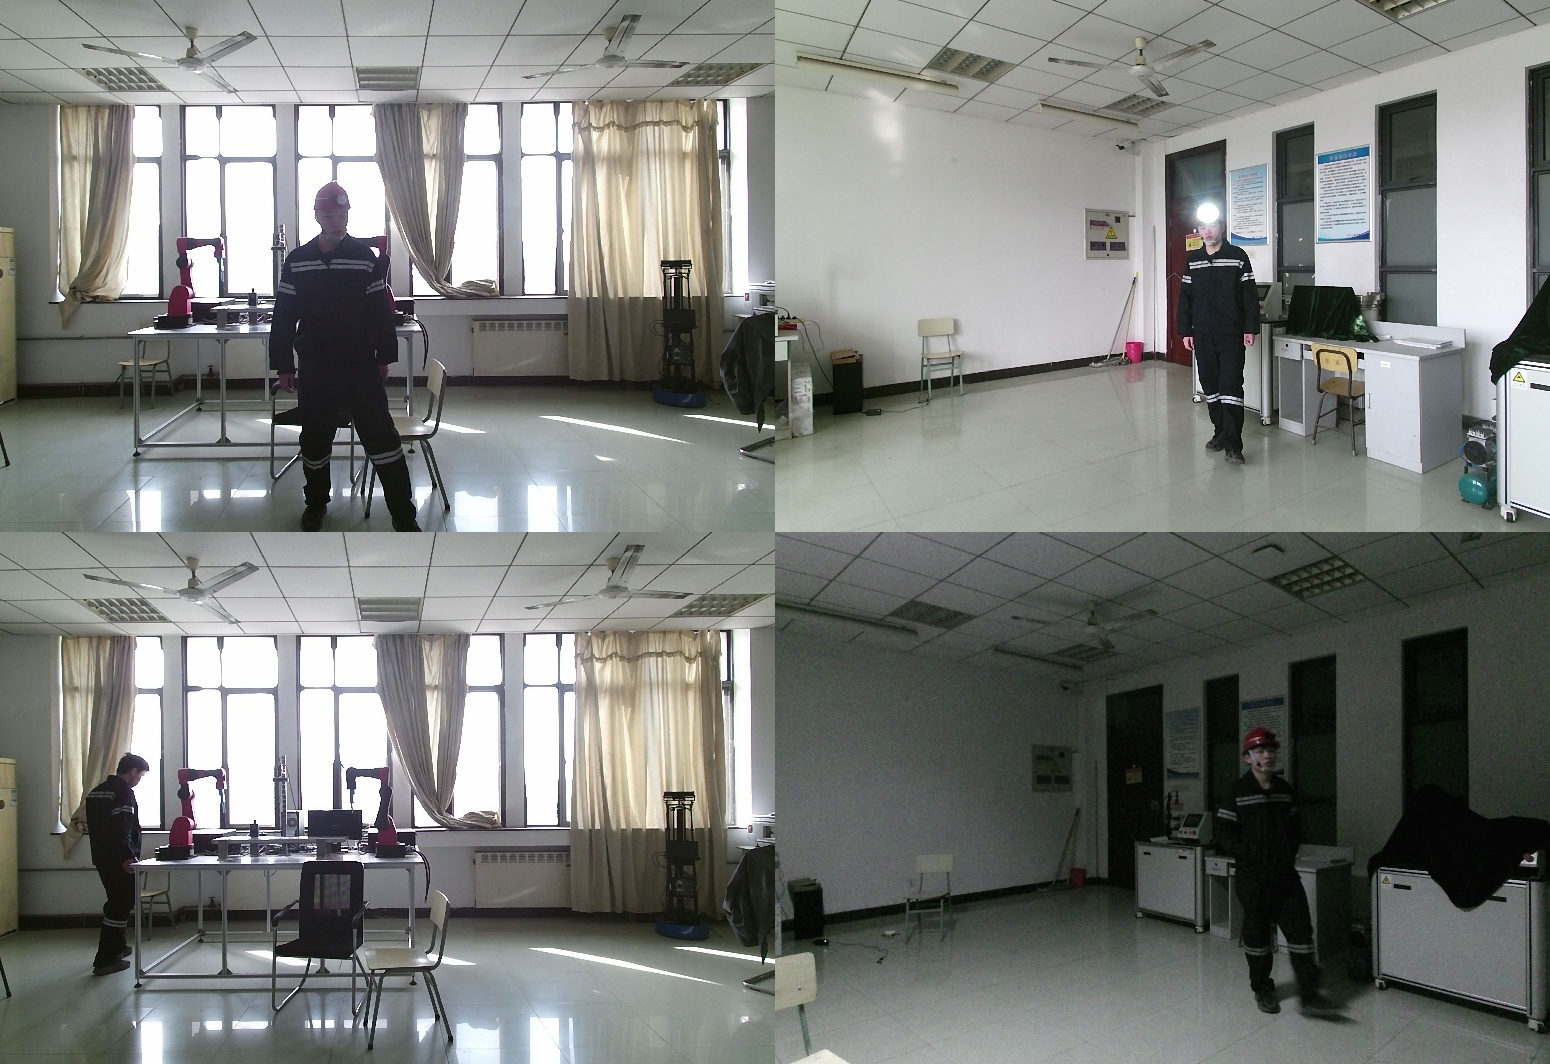person: (272, 181, 422, 532), (1211, 729, 1330, 1013), (1177, 204, 1272, 469), (83, 755, 150, 977)
